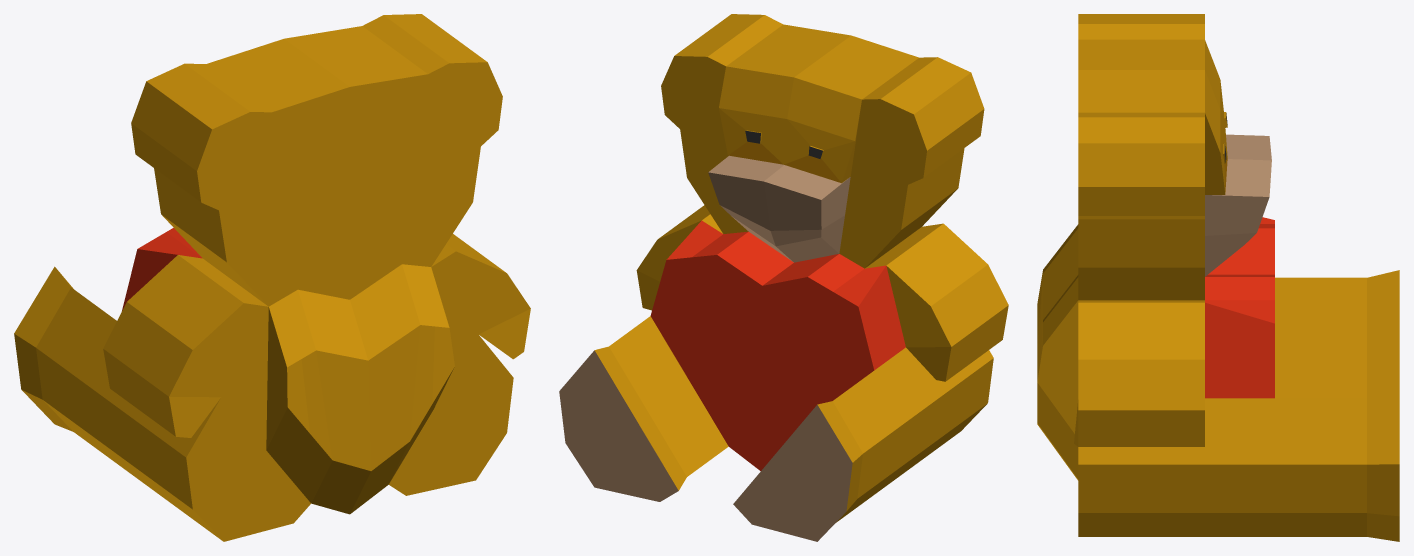
Rendered from Bear.fbx.
3 views of the same model, side by side, from view 1: azimuth 30°, elevation 25°; view 2: azimuth 150°, elevation 25°; view 3: azimuth 270°, elevation 25° (orthographic). The views are drawn at different scales.
Visible parts, largest first — view 1: Cube.002; view 2: Cube.002; view 3: Cube.002.
Part boxes in pixels (box(x1,y1,x2,y2)): Cube.002: box(14, 14, 530, 541); Cube.002: box(559, 14, 1008, 541); Cube.002: box(1037, 14, 1399, 541).
Bounding box in the file's own units: 317 × 359 × 286.
Materials: 1 (1 with a texture image).
